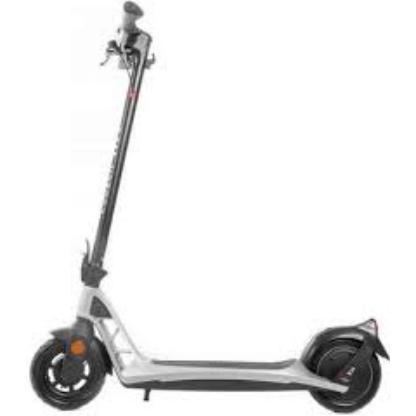bike: (28, 2, 412, 414)
